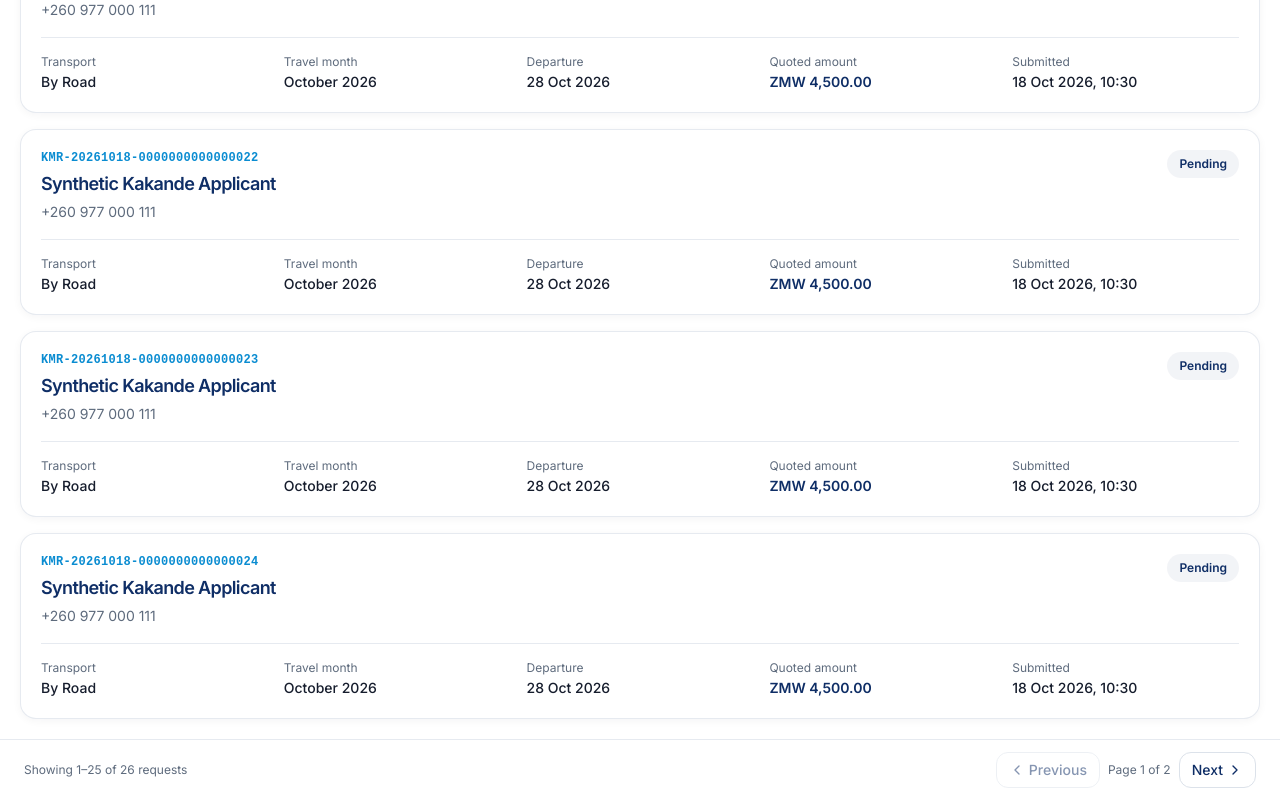
Test: admin Kakande request list › uses exact-count server ranges and enforces pagination boundaries
(page scrolled)
Expected: the text "Page 1 of 2" is shown, [1108, 762, 1171, 778]
Expected: the button with aria-label "Previous page" is disabled, [996, 752, 1100, 788]
Click the button with aria-label "Next page" at [1217, 770], box [1179, 752, 1256, 788]
(page scrolled)
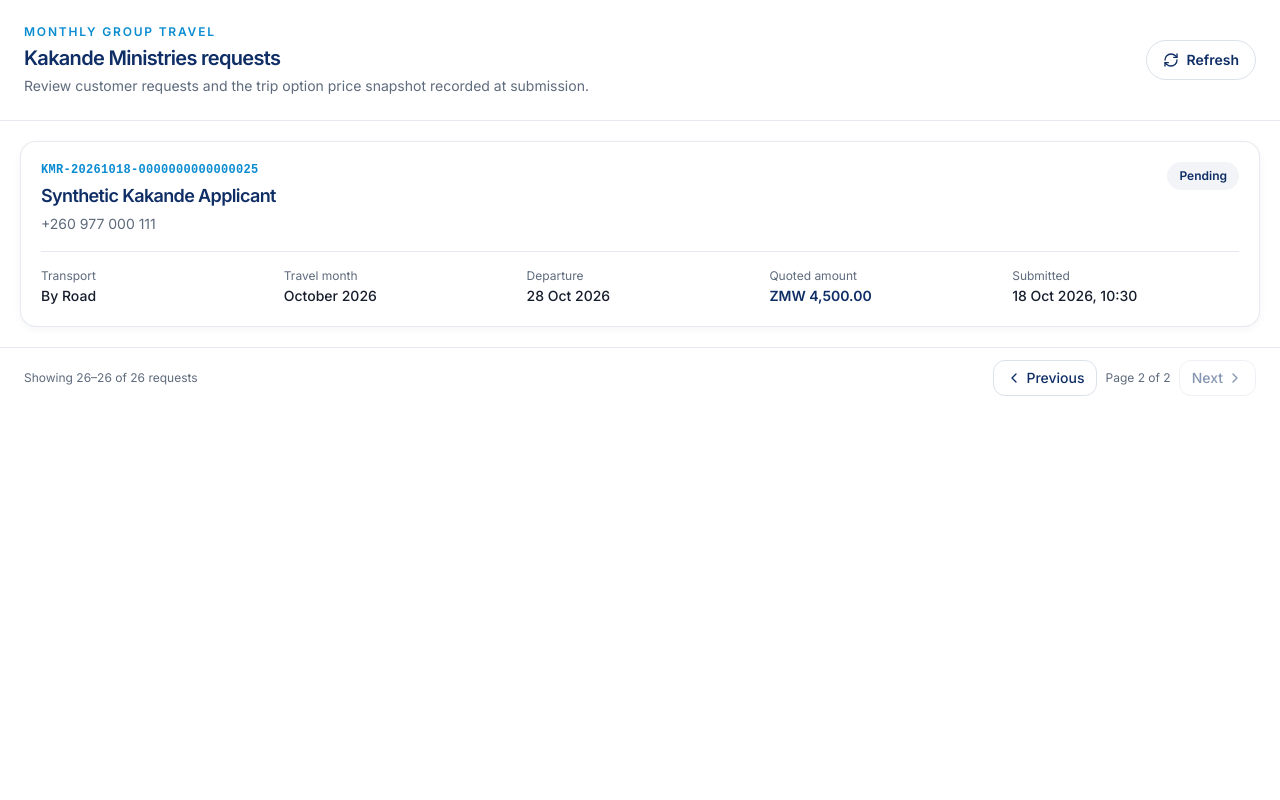
Expected: the text "Page 2 of 2" is shown, [1106, 370, 1171, 386]
Expected: the button with aria-label "Next page" is disabled, [1179, 360, 1256, 396]
Click the button with aria-label "Previous page" at [1045, 378], box [993, 360, 1098, 396]
(page scrolled)
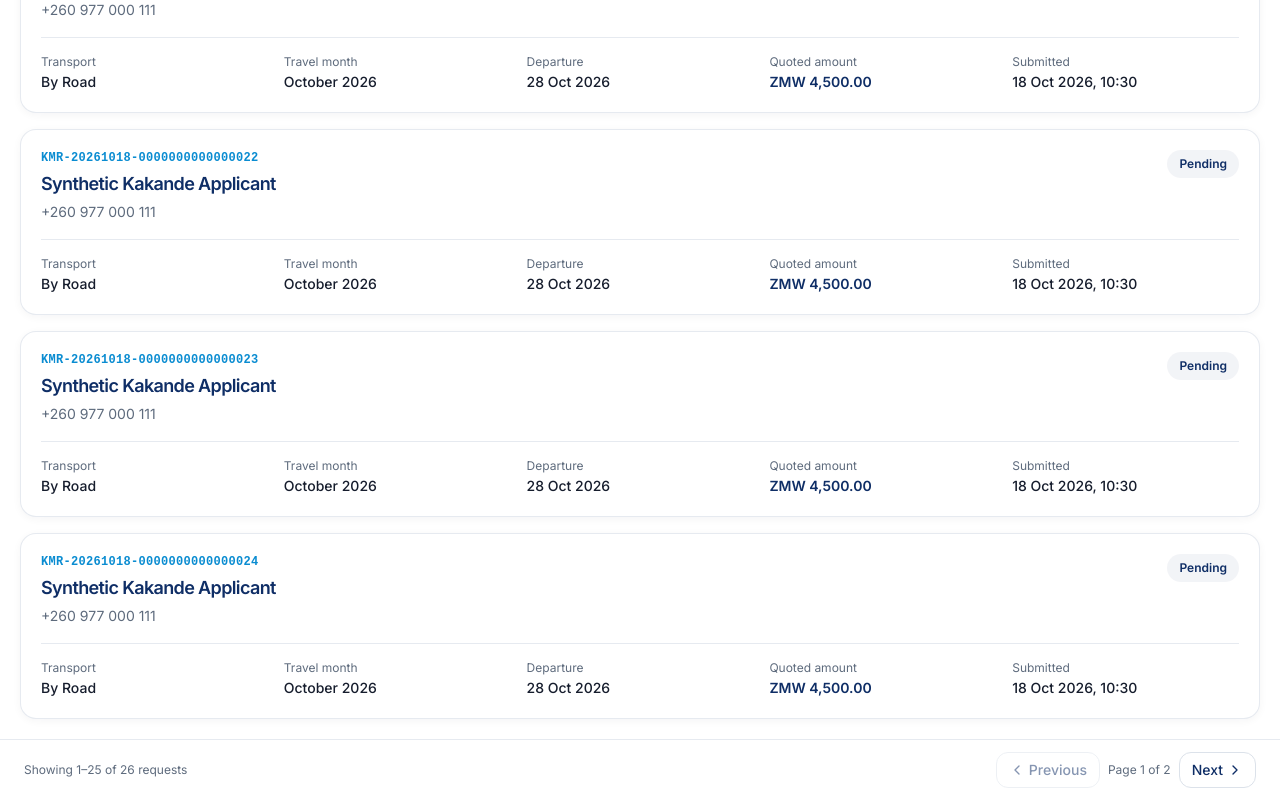
Expected: the text "Page 1 of 2" is shown, [1108, 762, 1171, 778]
